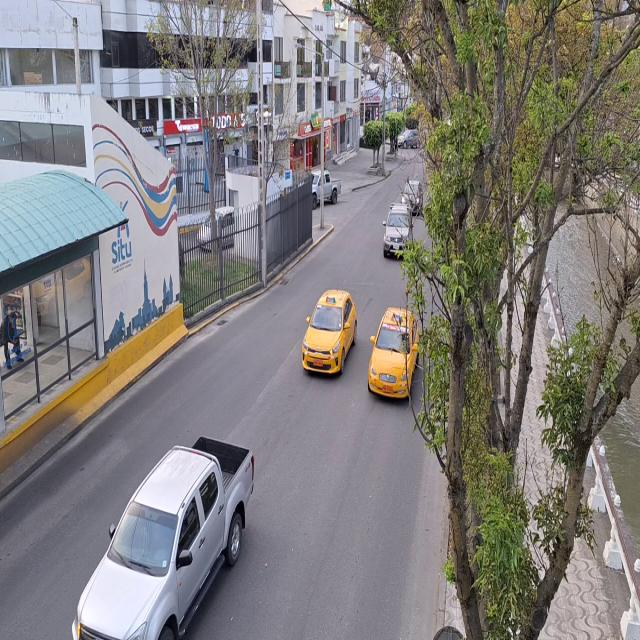CMT: (71, 444, 249, 640)
SED: (370, 308, 418, 402), (306, 290, 356, 380)
